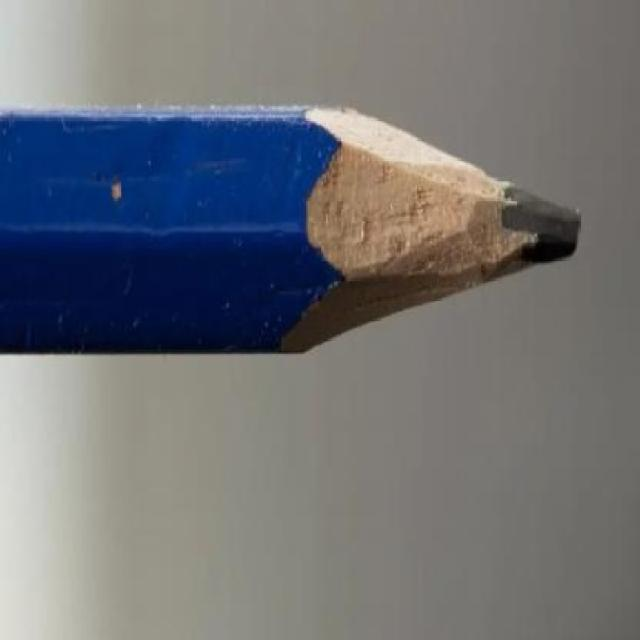pencil: (0, 101, 585, 354)
